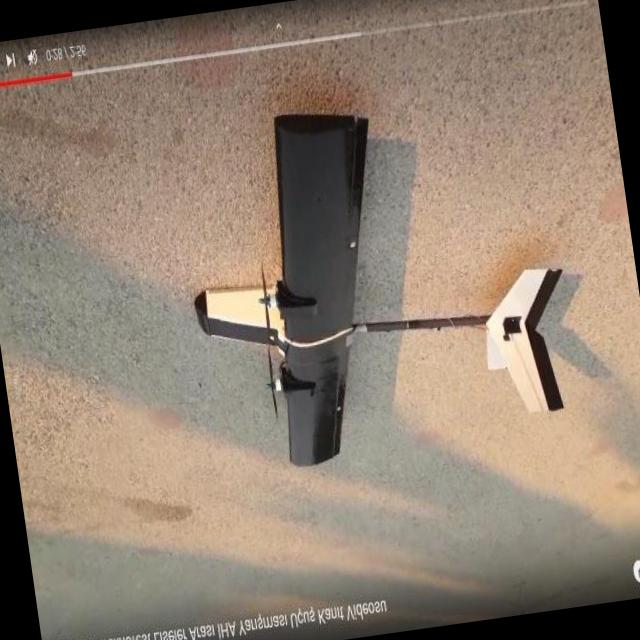UAV: (155, 132, 602, 505)
